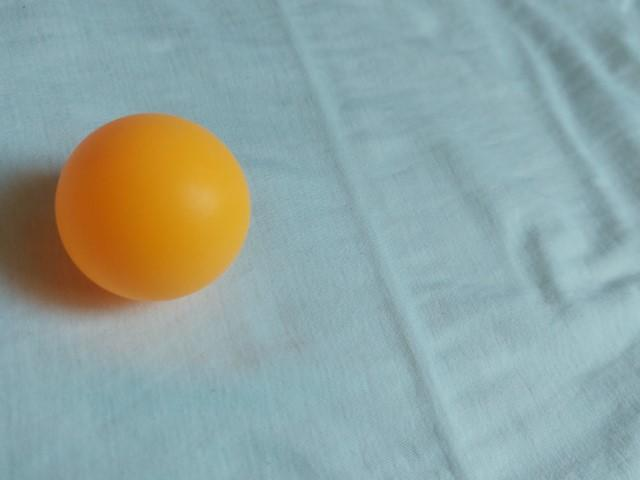oball: (52, 110, 255, 305)
